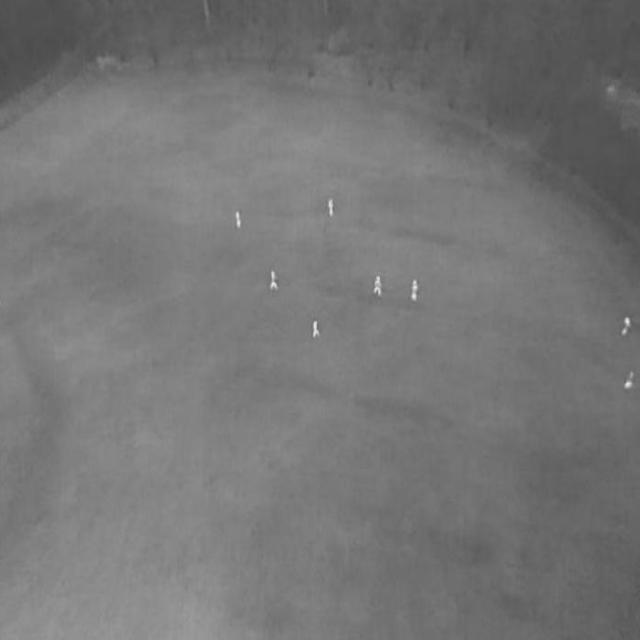person: (269, 270, 279, 293), (622, 315, 632, 338), (626, 370, 635, 394), (411, 278, 419, 304), (373, 275, 382, 298), (328, 198, 336, 219), (235, 210, 243, 231), (313, 321, 321, 342)
